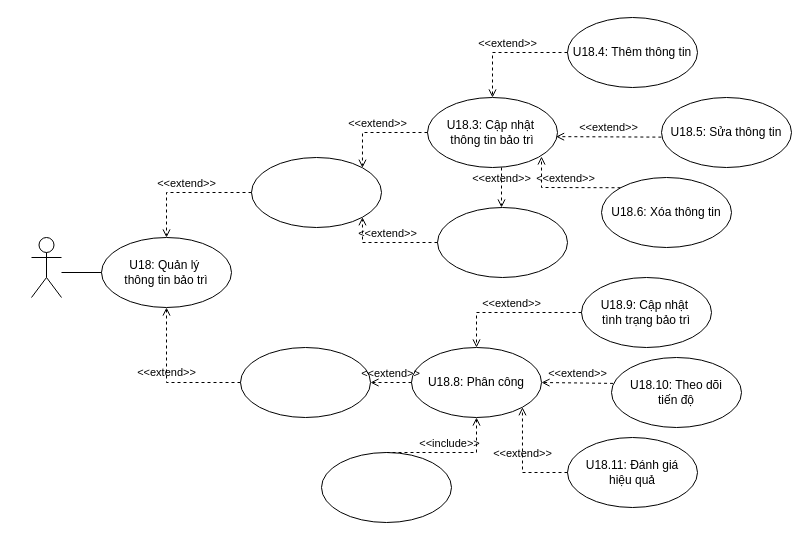
The diagram is 809 pixels wide and 540 high, and some of its shapes have lost their labels. The shapes that lost their labels are listed below. From the top down, each one's box as (x1, y1, x2, y2) in pixels, then its label:
(250, 156, 382, 228): U18.1: Xem thông tin bảo trì
(436, 206, 568, 278): U18.7: Tìm kiếm thông tin bảo trì
(30, 236, 62, 298): Quản lý ga
(240, 346, 370, 418): U18.2: Tạo danh sách theo dõi
(320, 452, 452, 522): U18.12: Gửi thông báo
